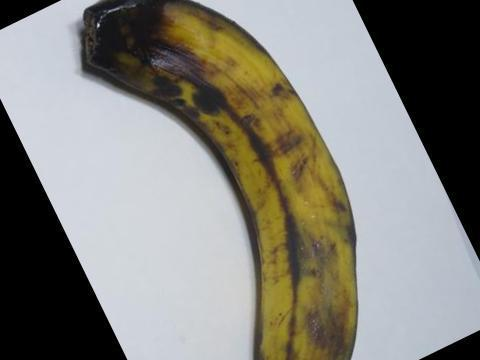overripe: (62, 0, 376, 359)
rotten: (56, 0, 232, 114)
